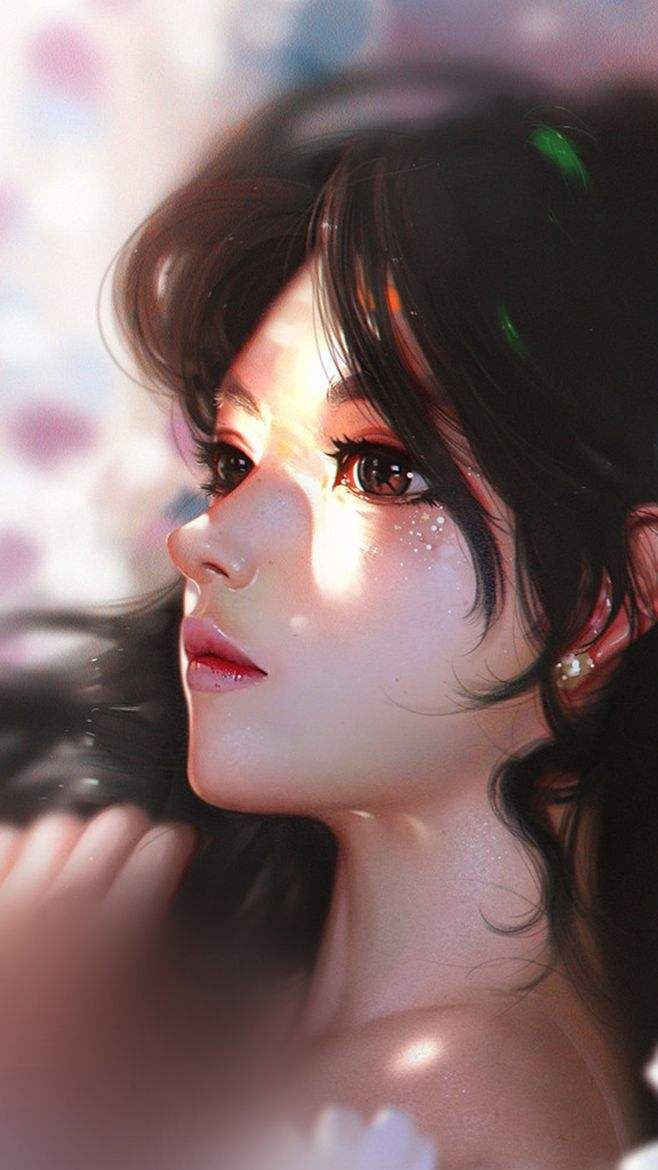person: (137, 34, 606, 878)
